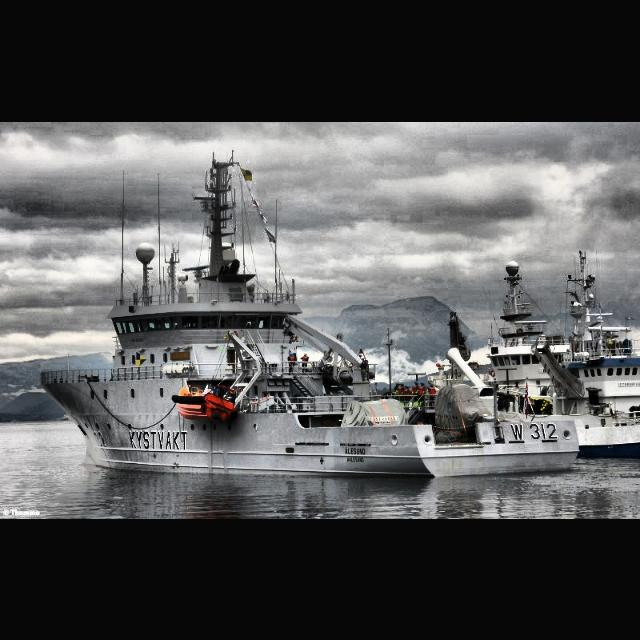combat_vessel: (35, 149, 583, 481)
